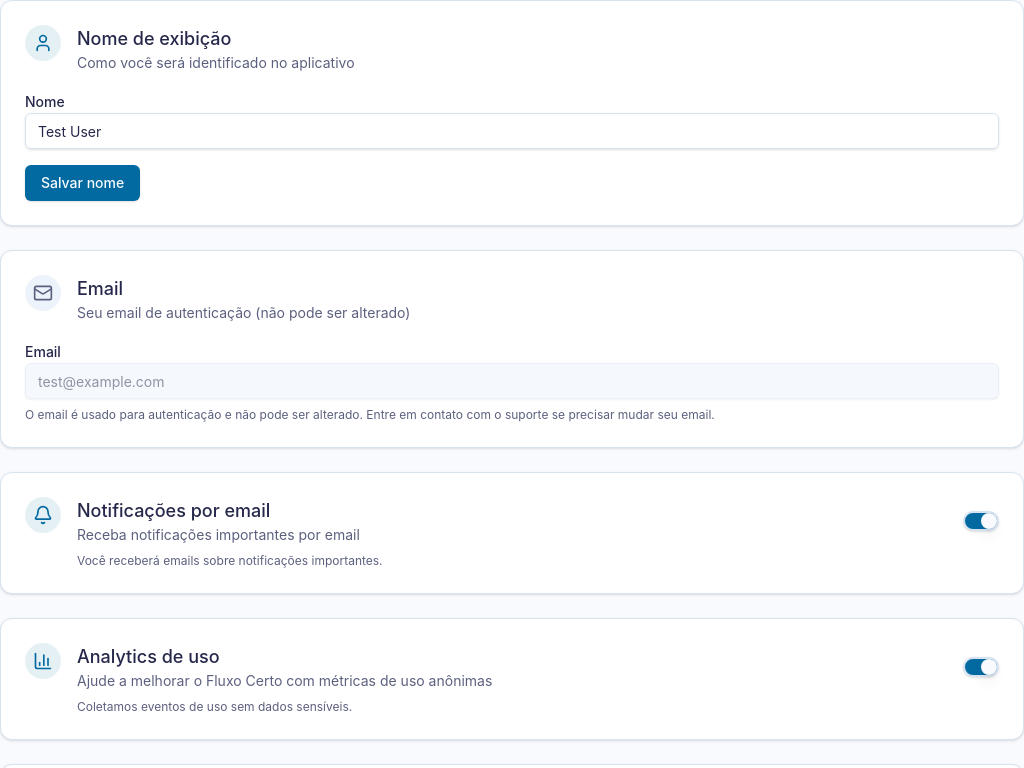
Test case: ProfileSettingsForm › save UX › shows success indicator on successful save
Step 1. Replace the text in the field labelled "Nome" with "New Name" → {"x": 512, "y": 131}, box [25,113,999,149]
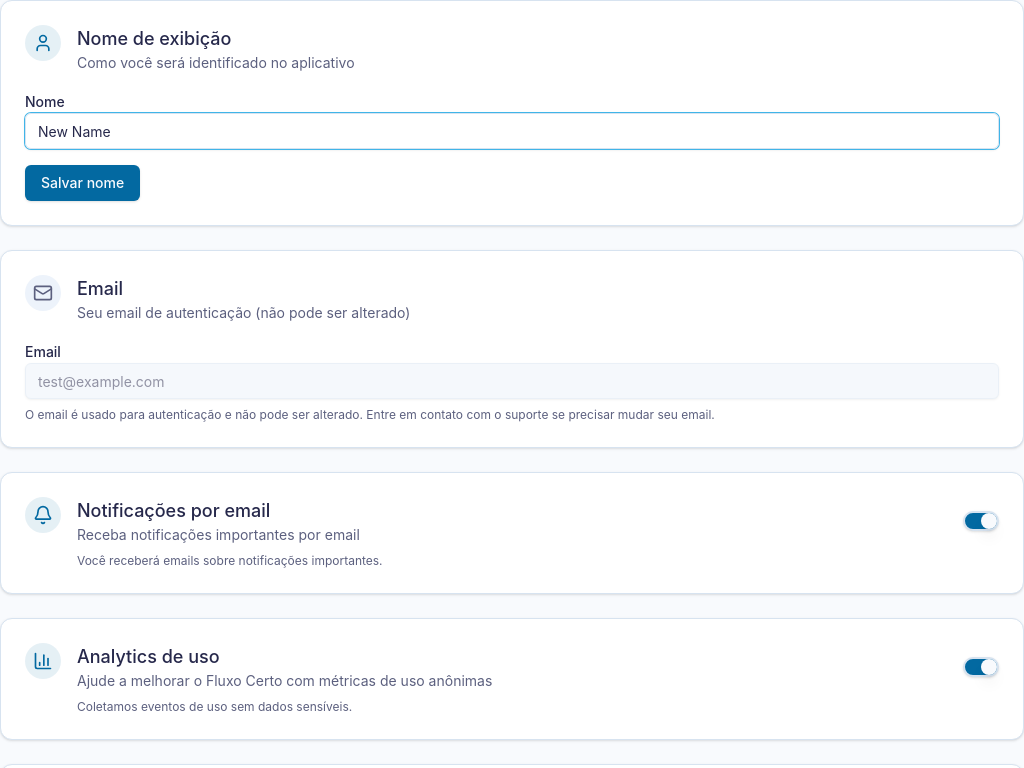
Step 2. Click the button "Salvar nome" → {"x": 83, "y": 183}, box [25,165,140,201]
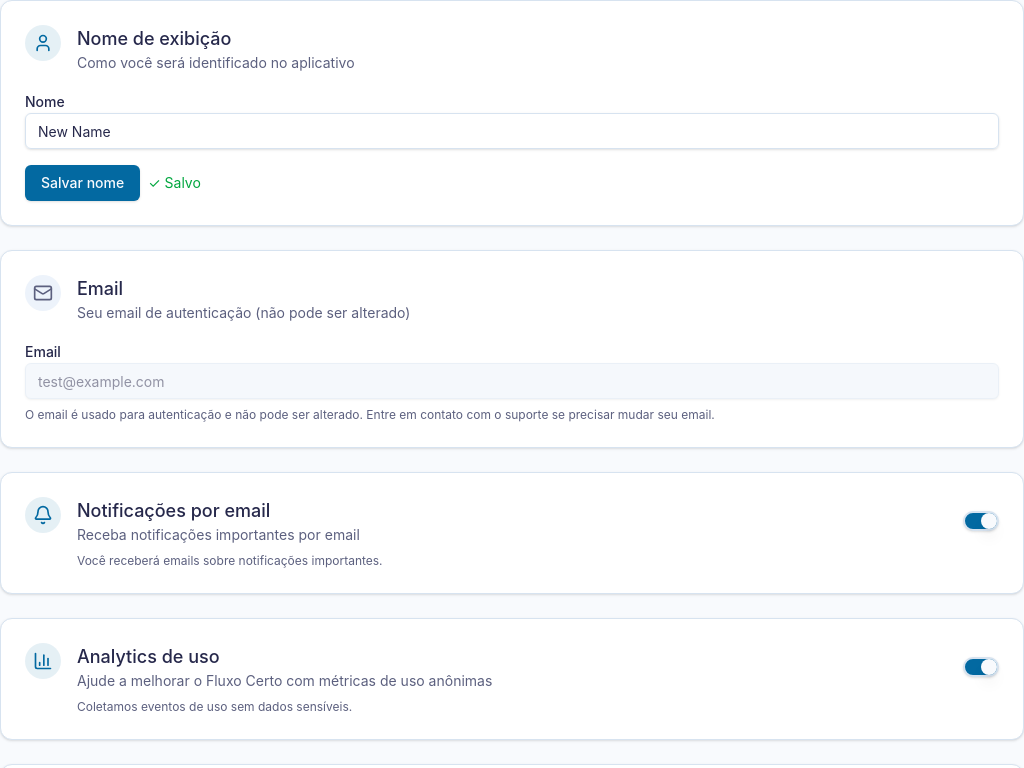
expect the text "✓ Salvo" is shown: met, box [148,173,201,193]
